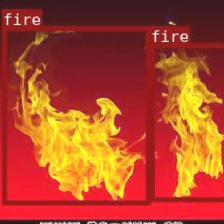fire: (2, 26, 150, 204), (149, 42, 224, 202)
